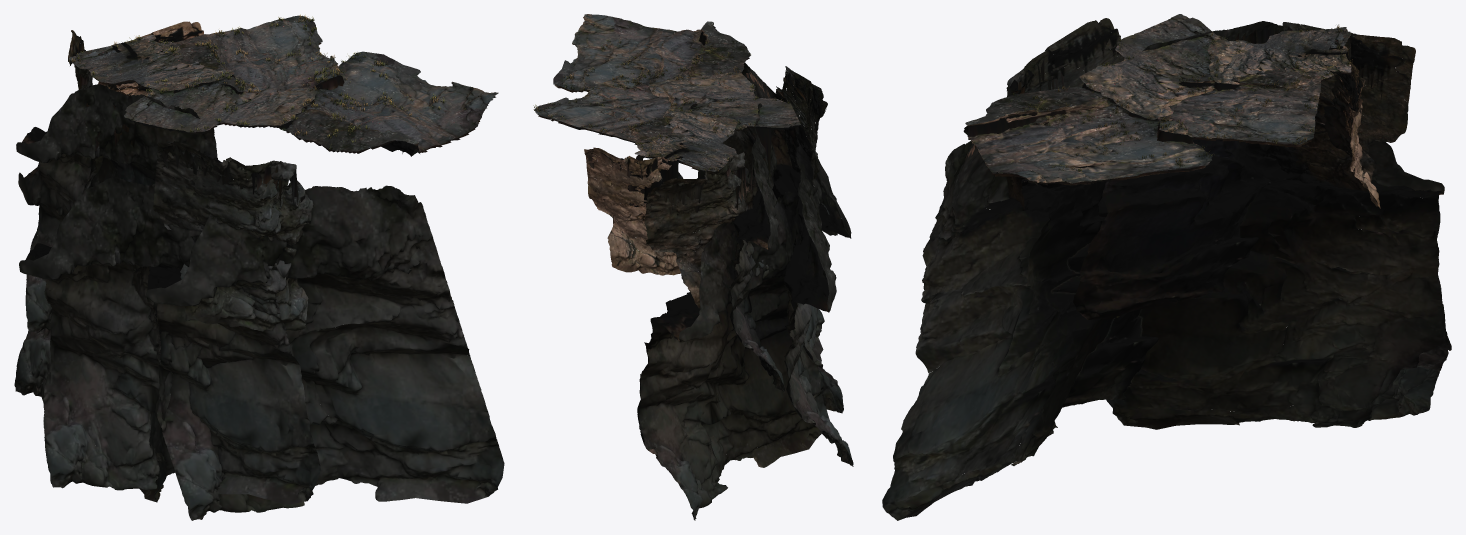
Rendered from cliff.glb.
3 views of the same model, side by side, from view 1: azimuth 30°, elevation 25°; view 2: azimuth 150°, elevation 25°; view 3: azimuth 270°, elevation 25° (orthographic). The views are drawn at different scales.
Parts seen in each view (by area): view 1: Cliff_Stone, Alpine grass, Fallen cherry petals; view 2: Cliff_Stone, Alpine grass, Fallen cherry petals; view 3: Cliff_Stone, Alpine grass, Fallen cherry petals.
Boxes of the visible parts, left/top/right/bottom form: Cliff_Stone: left=14, top=15, right=504, bottom=520; Alpine grass: left=69, top=14, right=445, bottom=218; Fallen cherry petals: left=78, top=20, right=460, bottom=138; Cliff_Stone: left=534, top=14, right=853, bottom=520; Alpine grass: left=533, top=39, right=790, bottom=256; Fallen cherry petals: left=547, top=30, right=776, bottom=167; Cliff_Stone: left=882, top=14, right=1451, bottom=520; Alpine grass: left=1008, top=24, right=1361, bottom=317; Fallen cherry petals: left=1007, top=28, right=1348, bottom=169.
Bounding box in the file's own units: 17.35 × 16.74 × 20.71.
2 materials, 1 textured.
